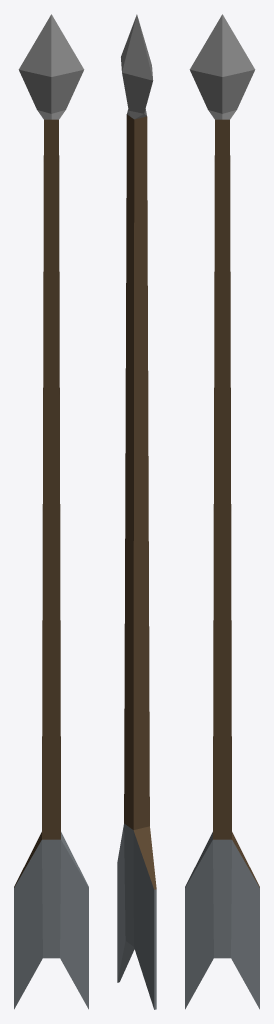
The model's file is Arrow.fbx.
3 views of the same model, side by side, from view 1: azimuth 90°, elevation 25°; view 2: azimuth 210°, elevation 25°; view 3: azimuth 270°, elevation 25° (orthographic).
Parts seen in each view (by area): view 1: Arriow; view 2: Arriow; view 3: Arriow.
Part boxes in pixels (<box>): Arriow: <box>14,14,88,1009</box>; Arriow: <box>117,14,156,1009</box>; Arriow: <box>185,14,259,1009</box>.
Size of the model in its own units: 0.0534 by 0.1139 by 1.67.
